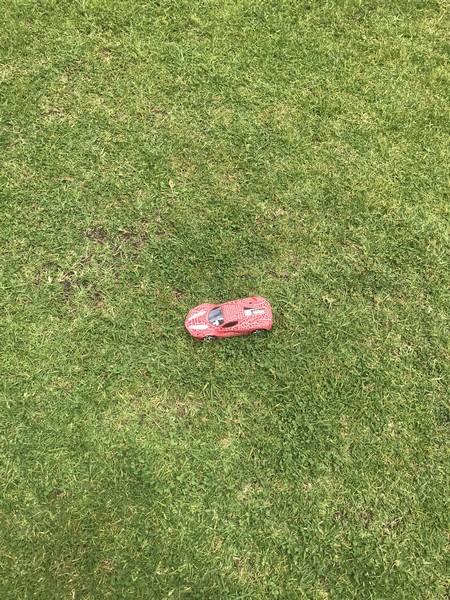RC: (183, 295, 275, 343)
